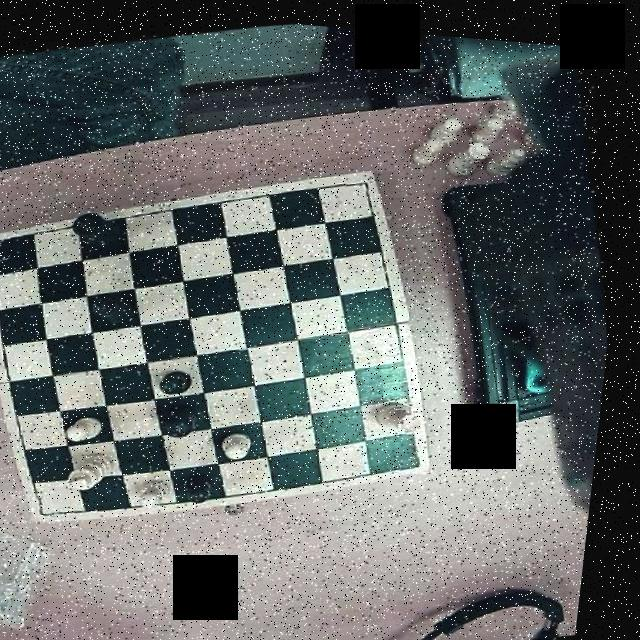chess-table-corners: (344, 165, 382, 202), (401, 432, 437, 469), (38, 492, 74, 524), (0, 230, 20, 264)
